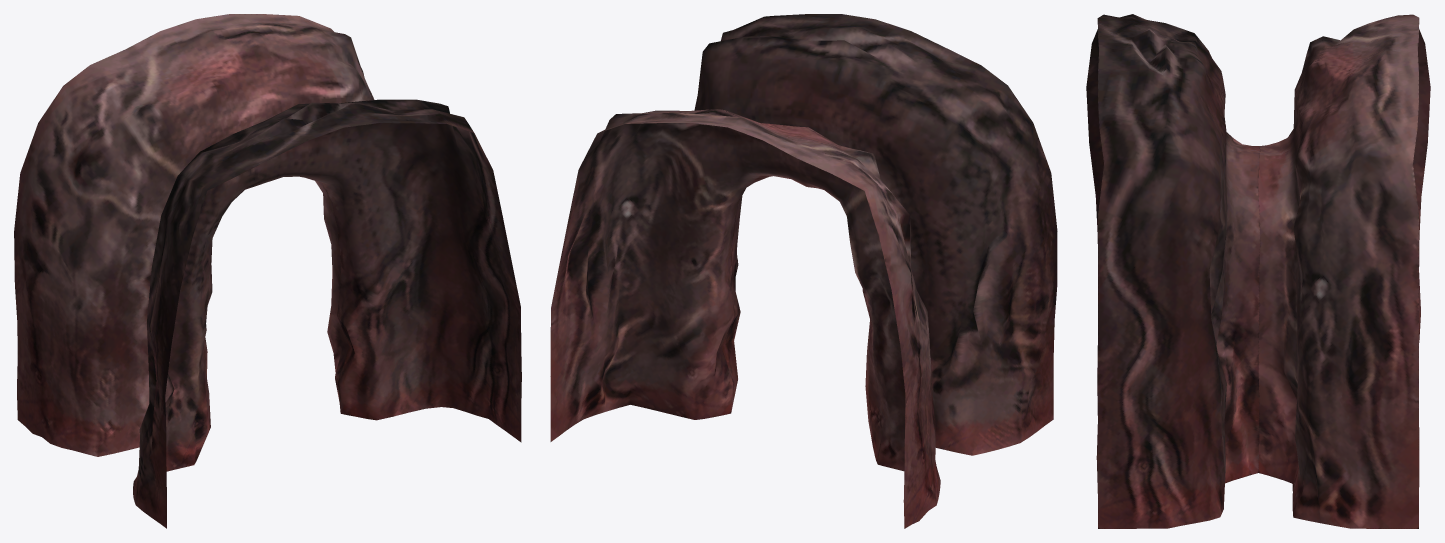
Rendered from archway01.dae.
3 views of the same model, side by side, from view 1: azimuth 30°, elevation 25°; view 2: azimuth 150°, elevation 25°; view 3: azimuth 270°, elevation 25° (orthographic). The views are drawn at different scales.
Parts seen in each view (by area): view 1: ZBrush_defualt_group; view 2: ZBrush_defualt_group; view 3: ZBrush_defualt_group.
Boxes of the visible parts, x1=… form: ZBrush_defualt_group: x1=14, y1=14, x2=521, y2=528; ZBrush_defualt_group: x1=550, y1=14, x2=1057, y2=528; ZBrush_defualt_group: x1=1086, y1=14, x2=1430, y2=528.
Size of the model in its own units: 4.03 by 3.9 by 3.11.
